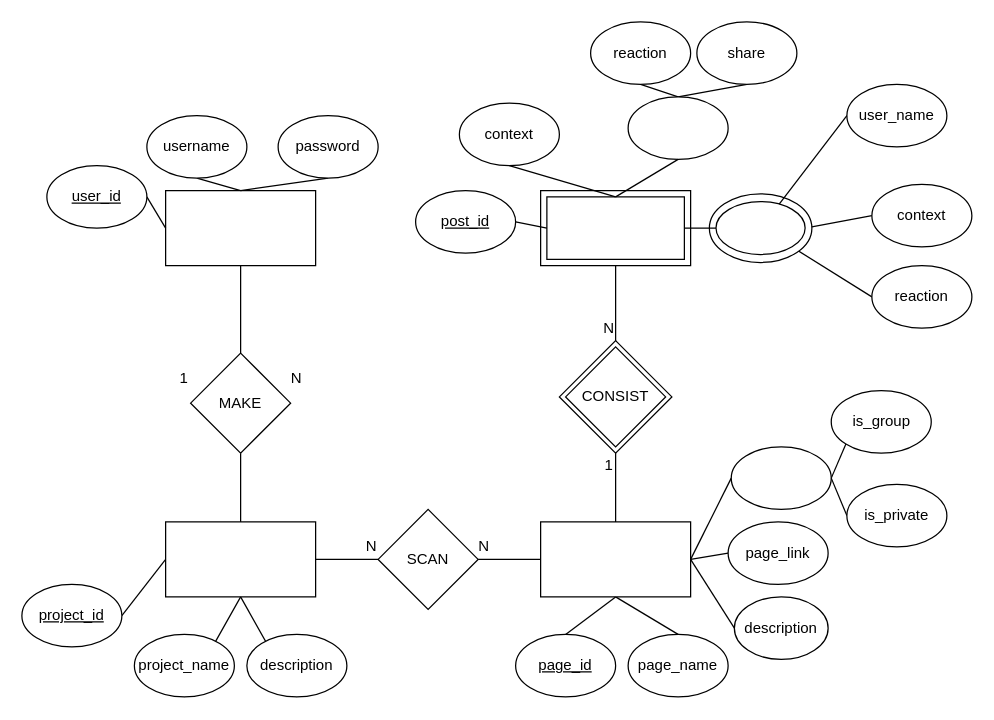
Image size: 994x720. Some labels were removed from this diagram. The shapes that lost their labels are listed below. From the top down, each one's centre as x and y in pixels, then its label:
point (677, 127): interaction
point (240, 227): USER
point (615, 227): POST
point (760, 227): comment
point (780, 477): status
point (240, 559): PROJECT
point (615, 559): PAGE
